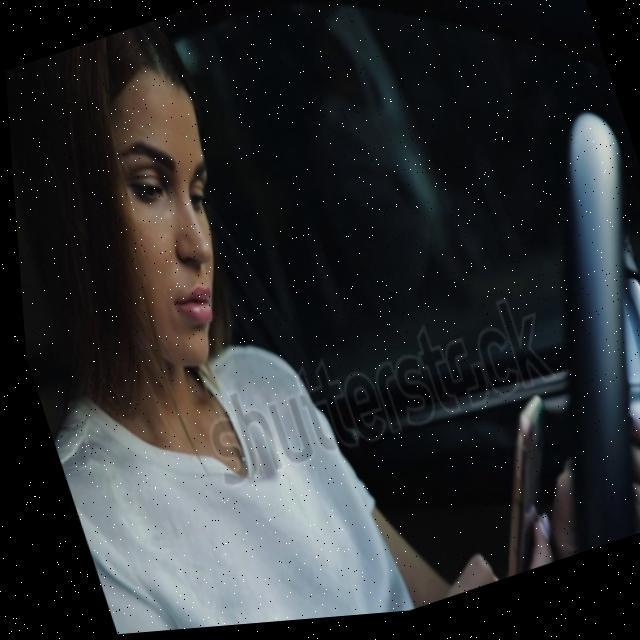PhoneCall: (445, 404, 581, 588)
